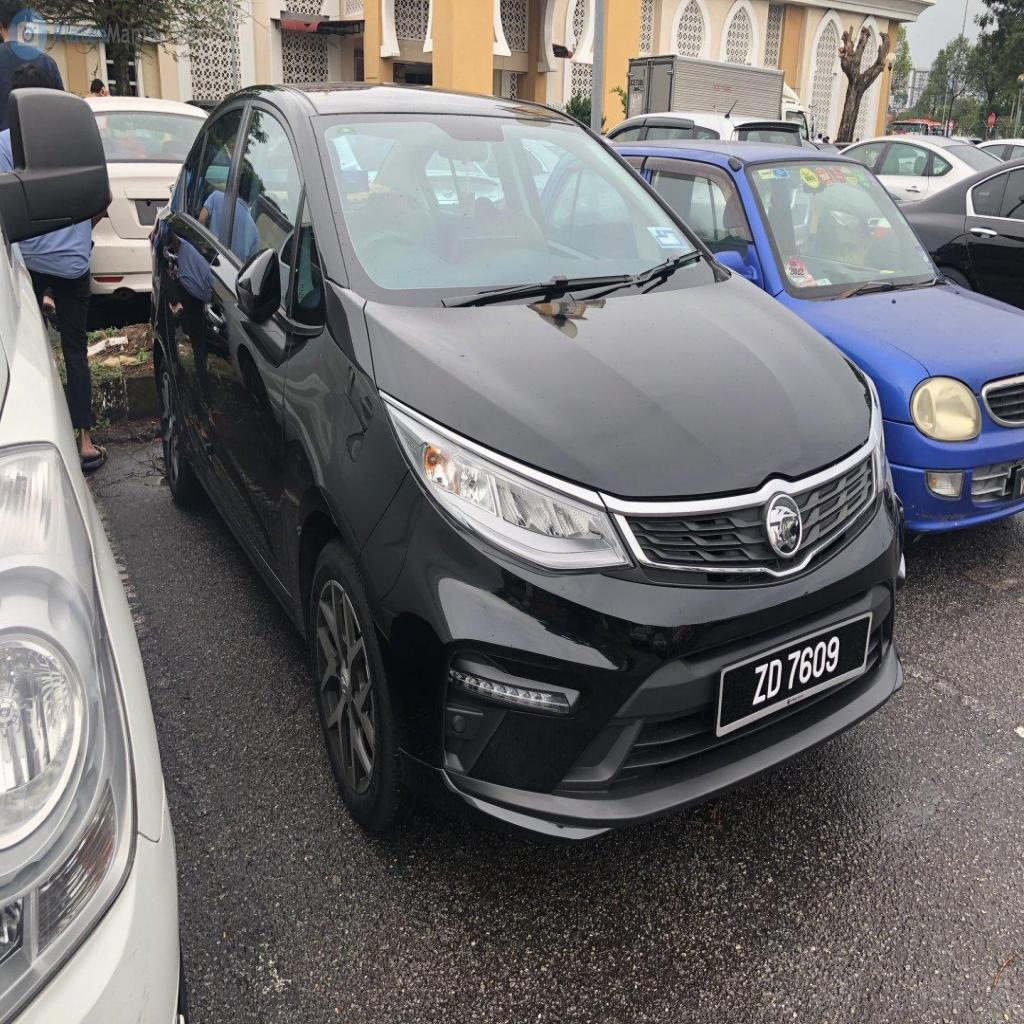car: (154, 82, 900, 836)
car plate: (716, 613, 870, 734)
